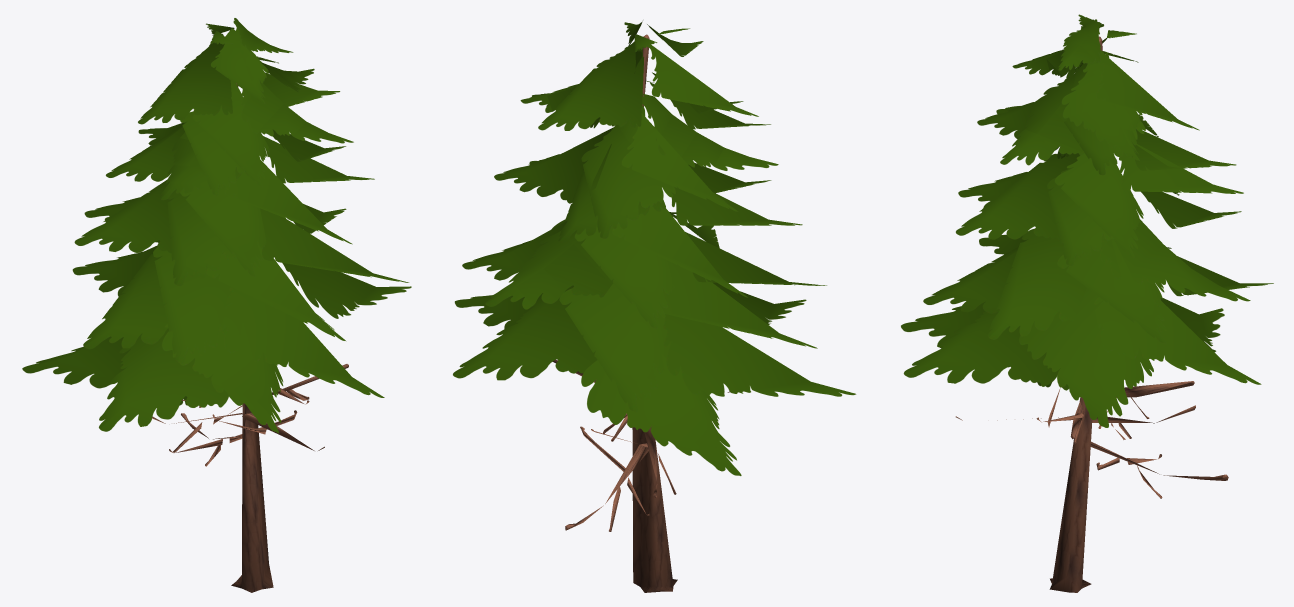
Rendered from pine_1-CqFe9feh.glb.
3 views of the same model, side by side, from view 1: azimuth 30°, elevation 25°; view 2: azimuth 150°, elevation 25°; view 3: azimuth 270°, elevation 25° (orthographic). The views are drawn at different scales.
Parts seen in each view (by area): view 1: Pine_1; view 2: Pine_1; view 3: Pine_1.
Boxes of the visible parts, x1,y1,x2,y2 form: Pine_1: [22, 18, 411, 592]; Pine_1: [453, 21, 856, 592]; Pine_1: [901, 14, 1273, 592].
Size of the model in its own units: 4.94 by 7.32 by 4.54.
Materials: 2 (2 with a texture image).
